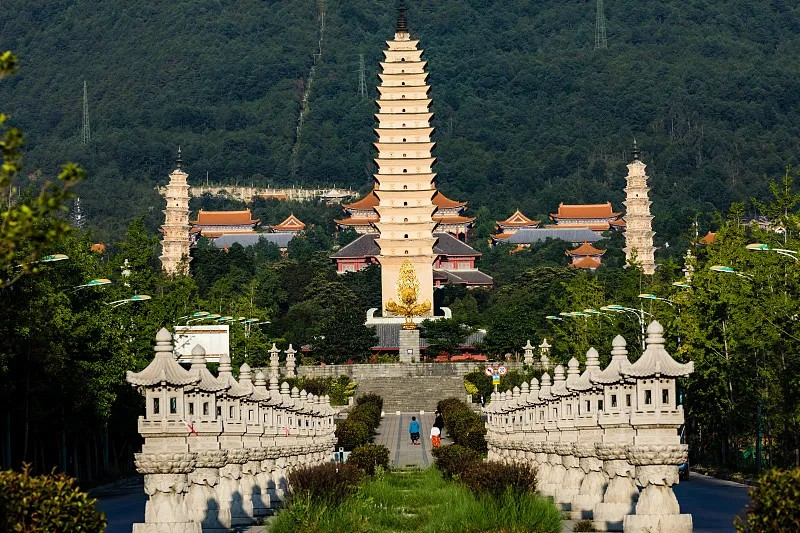ThreePagoda: (373, 1, 439, 317)
